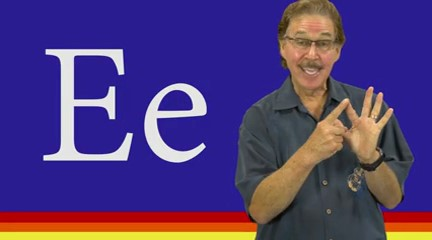E: (302, 84, 394, 168)
